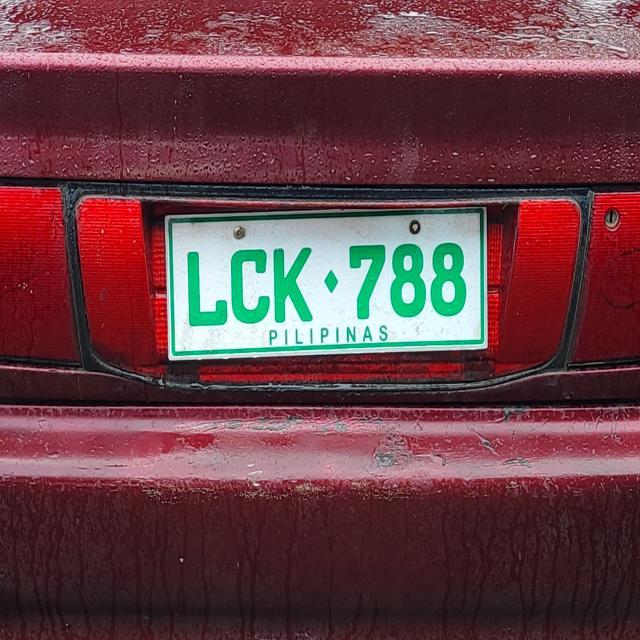LicensePlate: (153, 201, 496, 355)
